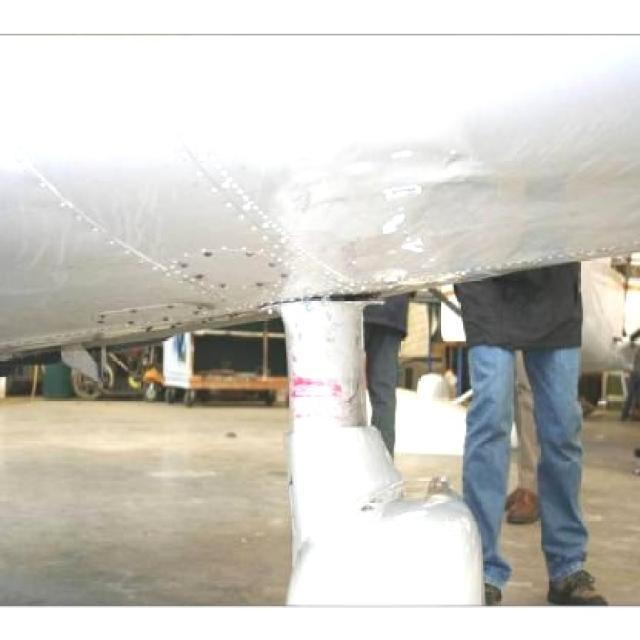dent: (381, 181, 424, 200)
